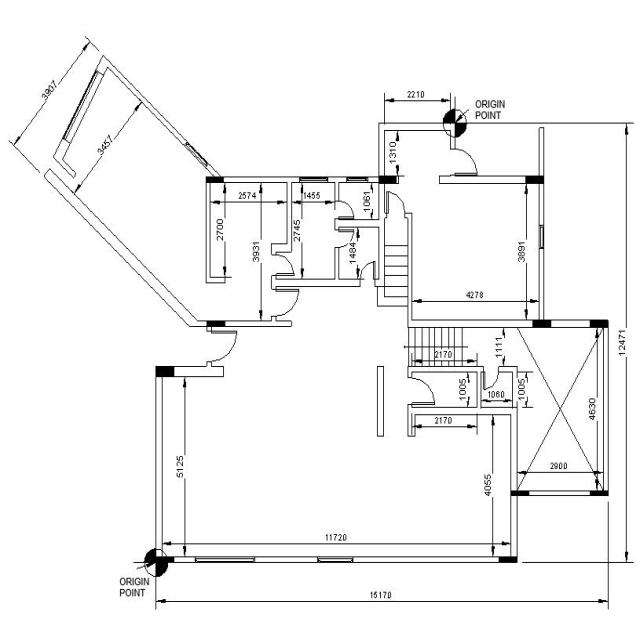Column: (156, 366, 174, 377), (532, 319, 552, 328), (379, 175, 399, 184), (590, 319, 608, 328), (526, 175, 544, 184), (498, 556, 518, 563), (207, 320, 226, 327), (156, 556, 174, 563), (206, 176, 224, 183), (510, 490, 530, 496), (590, 490, 608, 496)
Door: (206, 327, 238, 367), (271, 286, 299, 321), (408, 377, 435, 408), (450, 148, 478, 176), (270, 252, 294, 280), (386, 192, 406, 218), (360, 261, 376, 287), (481, 366, 498, 390), (335, 227, 354, 248), (335, 201, 354, 220)
Staircase: (408, 328, 518, 366), (378, 218, 408, 306)
Window: (62, 68, 104, 145), (183, 141, 209, 169), (195, 556, 255, 563), (317, 556, 353, 563), (299, 176, 328, 183), (346, 177, 368, 183), (539, 225, 544, 249)
